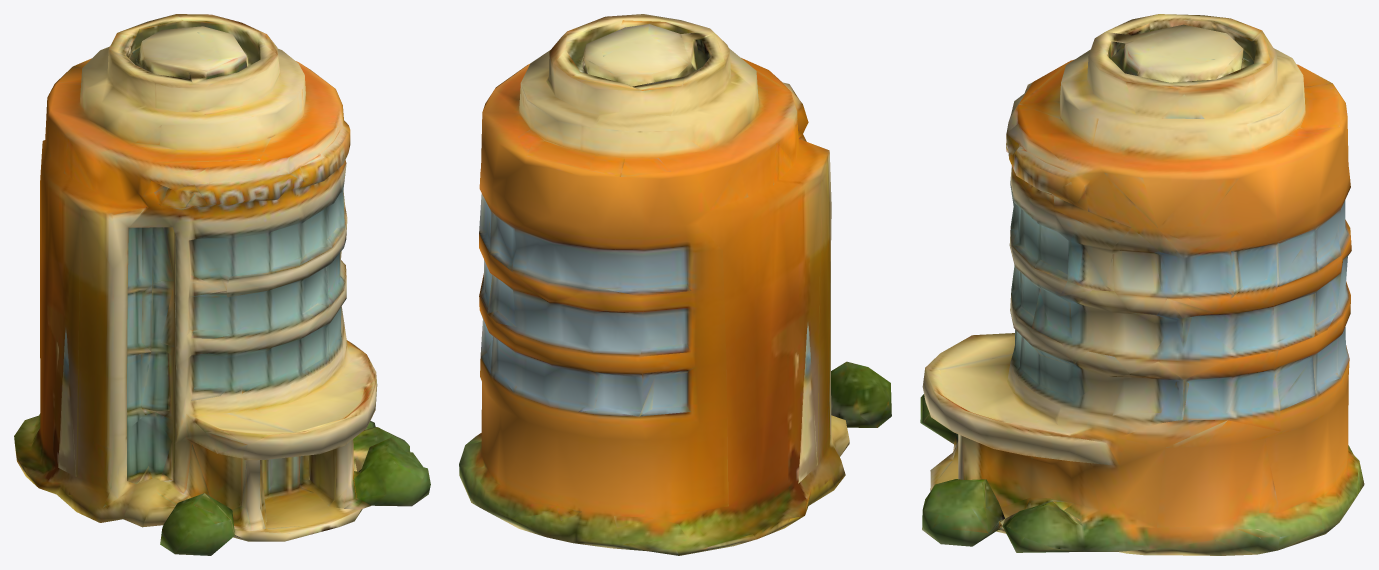
The model's file is building office mid2.fbx.
3 renders of one model, left to right at view 1: azimuth 30°, elevation 25°; view 2: azimuth 150°, elevation 25°; view 3: azimuth 270°, elevation 25°, orthographic. The views are drawn at different scales.
Visible parts, largest first — view 1: building office mid; view 2: building office mid; view 3: building office mid.
Boxes of the visible parts, <box> form: building office mid: <box>14,14,430,555</box>; building office mid: <box>459,14,891,555</box>; building office mid: <box>920,14,1364,555</box>.
Bounding box in the file's own units: 292 × 370 × 337.
